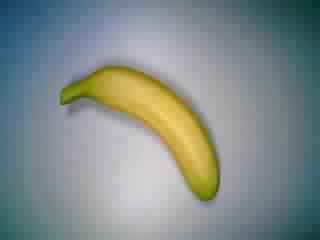banana: (58, 60, 221, 203)
